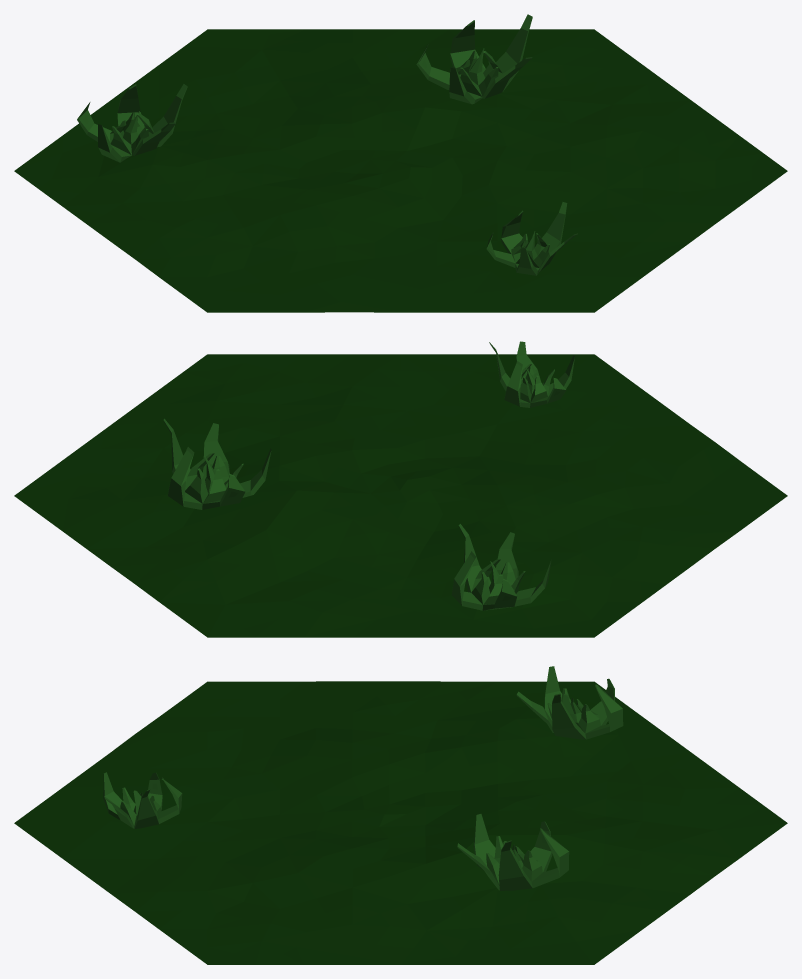
The model's file is grassland.gltf.
The picture shows the model from 3 angles, top to bottom: view 1: azimuth 30°, elevation 25°; view 2: azimuth 150°, elevation 25°; view 3: azimuth 270°, elevation 25°; orthographic projection.
Visible parts, largest first — view 1: Circle, Circle.001, Circle.003, Circle.002; view 2: Circle, Circle.001, Circle.003, Circle.002; view 3: Circle, Circle.001, Circle.003, Circle.002.
Boxes of the visible parts, <box> form: Circle: <box>14,29,787,312</box>; Circle.001: <box>416,14,532,104</box>; Circle.003: <box>77,84,187,162</box>; Circle.002: <box>486,202,577,275</box>; Circle: <box>14,354,787,637</box>; Circle.001: <box>163,418,271,509</box>; Circle.003: <box>451,524,551,610</box>; Circle.002: <box>489,341,574,407</box>; Circle: <box>14,681,787,964</box>; Circle.001: <box>457,814,569,890</box>; Circle.003: <box>516,666,623,739</box>; Circle.002: <box>103,772,182,828</box>.
Size of the model in its own units: 1.73 by 0.2065 by 2.
